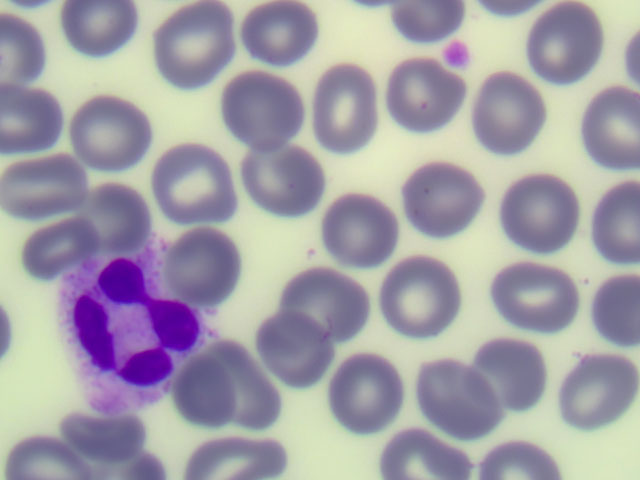Platelets: (447, 40, 472, 66)
RBC: (199, 344, 278, 429), (156, 150, 236, 226), (380, 256, 454, 331), (163, 7, 231, 86), (480, 78, 546, 159), (403, 165, 480, 234), (260, 315, 331, 389), (245, 148, 322, 216), (507, 177, 573, 252), (326, 198, 396, 267), (77, 95, 146, 164), (429, 365, 501, 431), (567, 360, 639, 426), (317, 65, 372, 151), (288, 276, 361, 339), (4, 437, 110, 480), (1, 157, 83, 212), (386, 67, 456, 131), (495, 269, 570, 328), (171, 230, 235, 298), (383, 433, 475, 480), (224, 79, 299, 136), (245, 3, 313, 63), (339, 358, 396, 429), (63, 1, 136, 54), (1, 87, 63, 149), (82, 188, 146, 248), (530, 13, 591, 75), (586, 89, 640, 159), (195, 442, 292, 480), (67, 414, 144, 460), (483, 346, 545, 402), (179, 359, 233, 423), (1, 11, 44, 86), (596, 190, 640, 262), (23, 229, 99, 267), (598, 278, 640, 340), (388, 1, 459, 34), (486, 450, 564, 480)
WBC: (70, 268, 169, 402)
